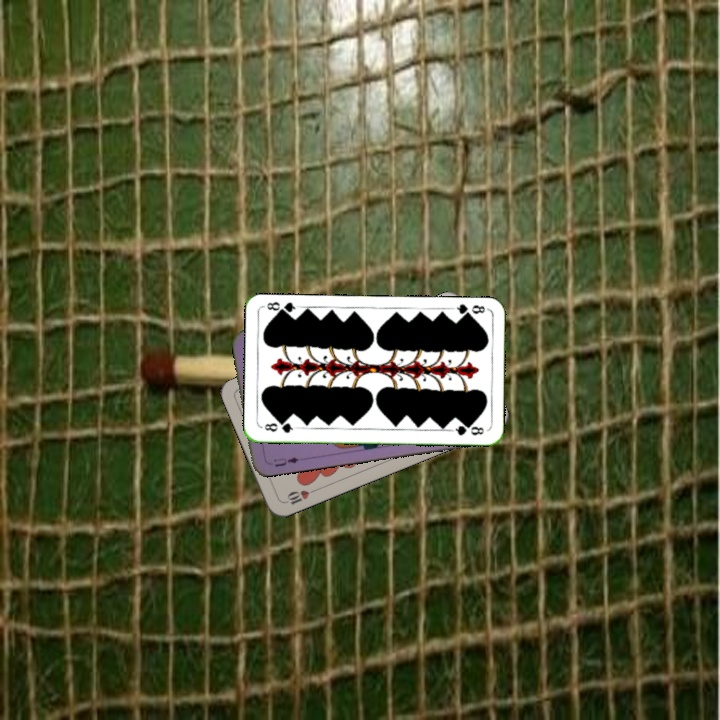EU: (270, 453, 302, 470)
G8: (449, 300, 489, 320), (260, 418, 299, 436)
H10: (280, 485, 319, 507)
